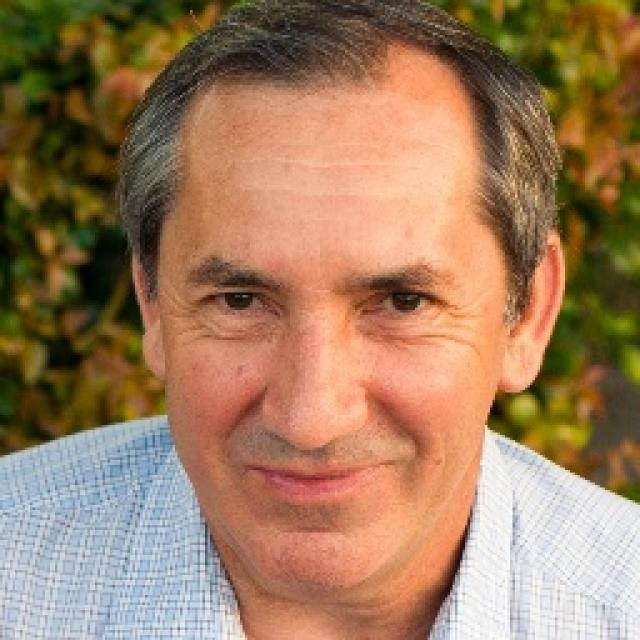earlobe: (502, 230, 564, 395), (131, 254, 167, 379)
